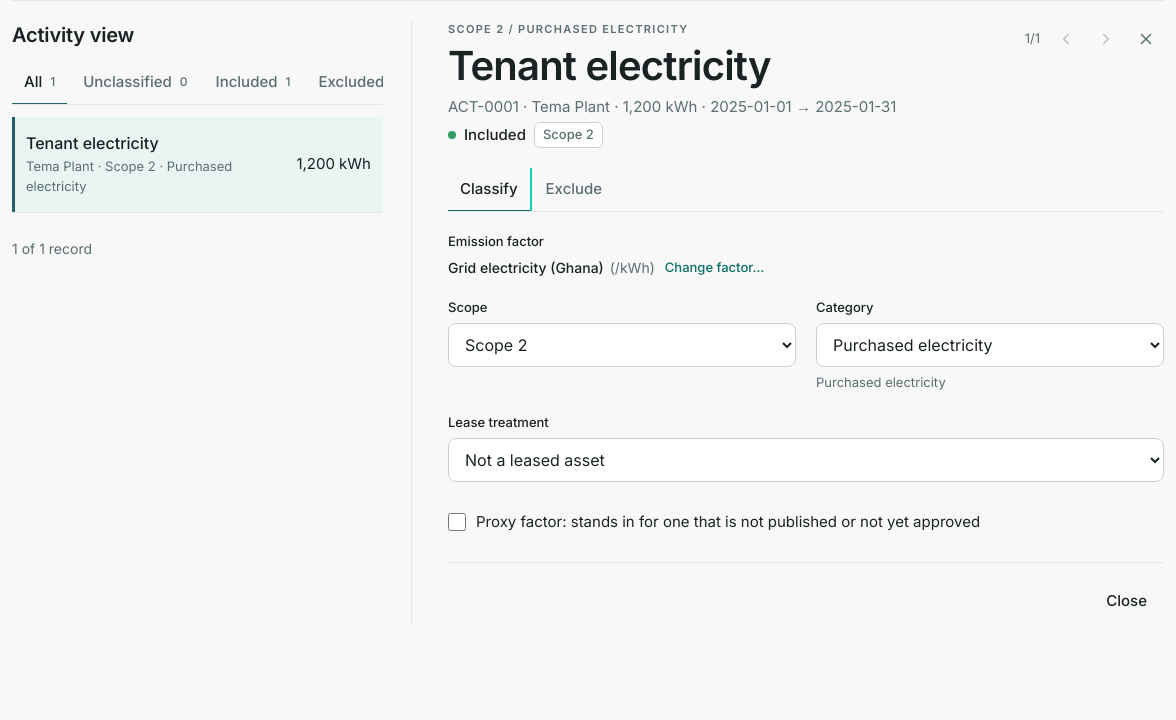
Scenario: the scope select is enabled for a scope 2 factor and asks why the scope departs (finding F34)
Select "Scope 3" in the dropdown named "Tenant electricity scope": (622, 345) [448,323,796,367]
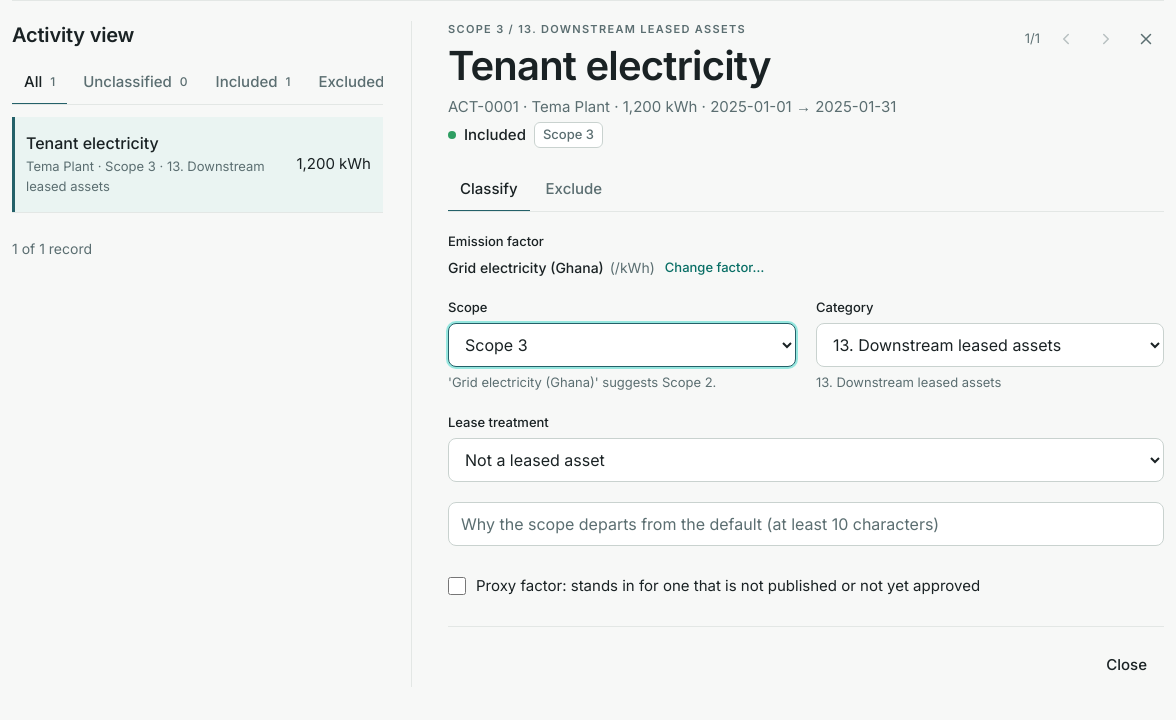
Expected: the field named "Tenant electricity scope justification" is shown, [448,502,1164,546]
